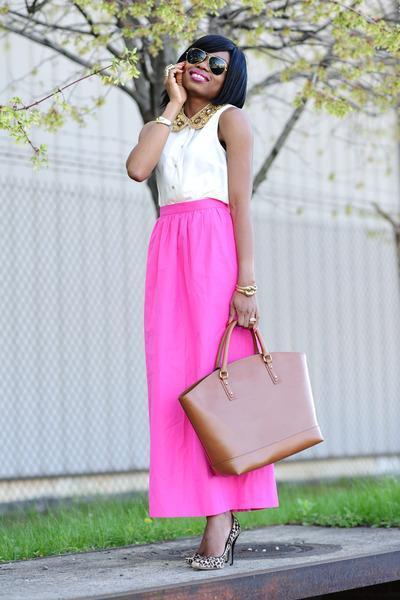bag: (178, 303, 318, 477)
shirt: (157, 108, 228, 203)
shoe: (209, 540, 232, 567)
skirt: (144, 197, 278, 517)
sunglass: (180, 51, 228, 83)
